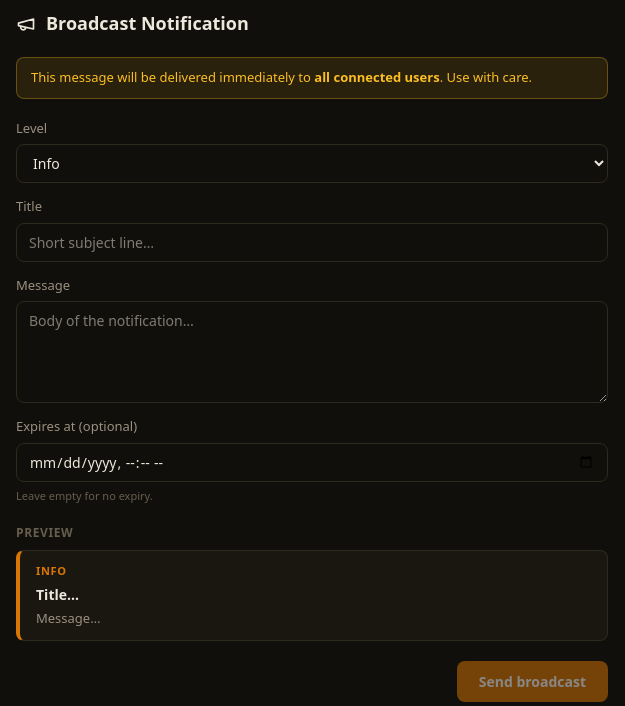
Test: AdminBroadcastTab › renders generic error message for unknown errors
Type "T" into the field labelled "Title" at (312, 242), box 16,222 -> 608,262
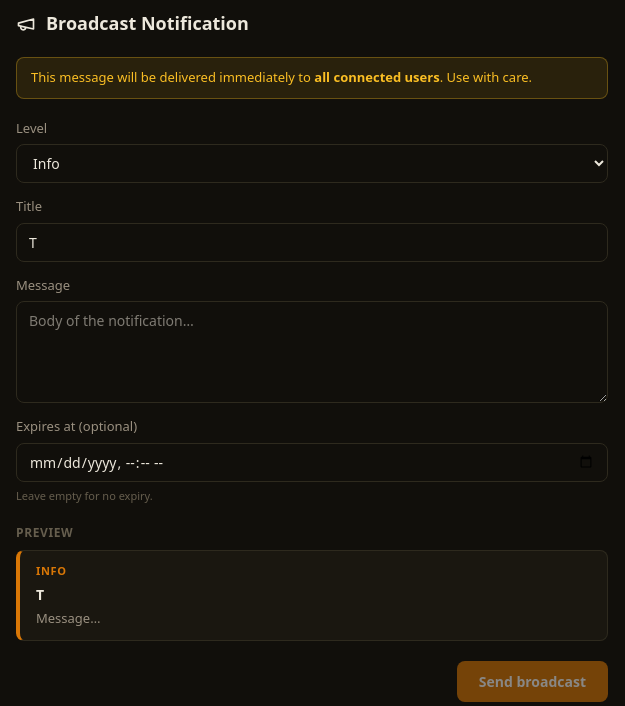
Type "M" into the text box labelled "Message" at (312, 352), box 16,301 -> 608,403
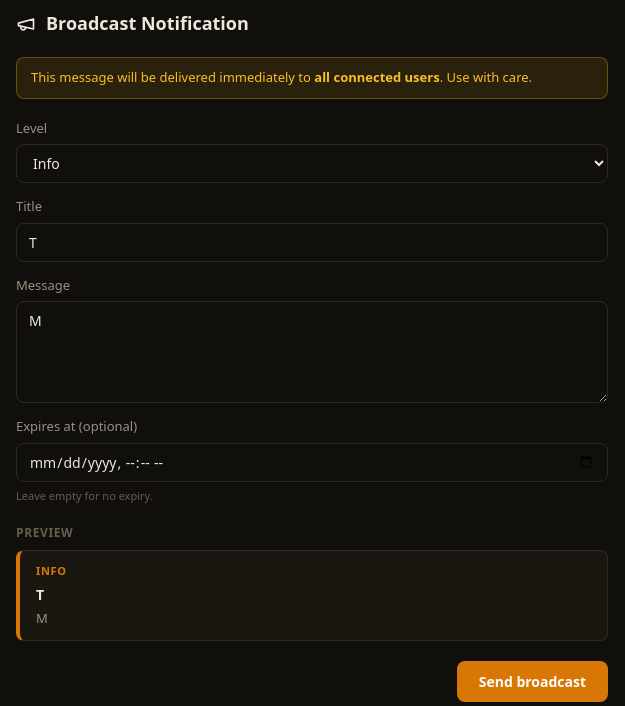
Click the button "Send broadcast" at (532, 682), box 457,661 -> 608,702
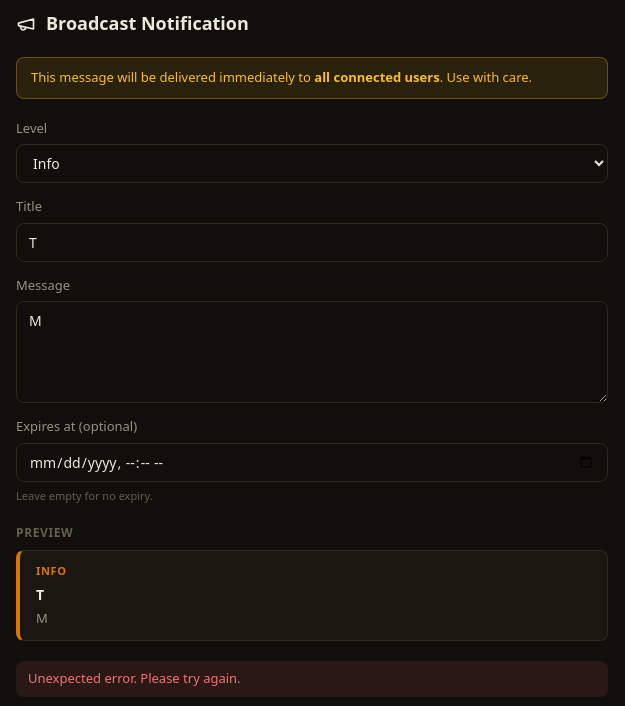
Now the text "Unexpected error. Please try again." is shown, box 16,661 -> 608,696
